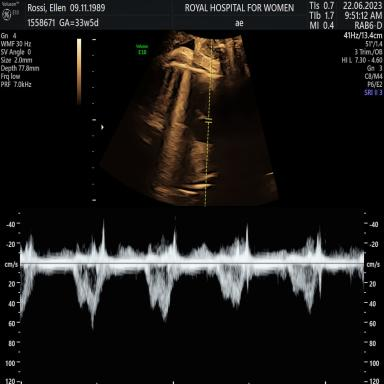Ultrasound-Waves: (24, 211, 362, 384)
